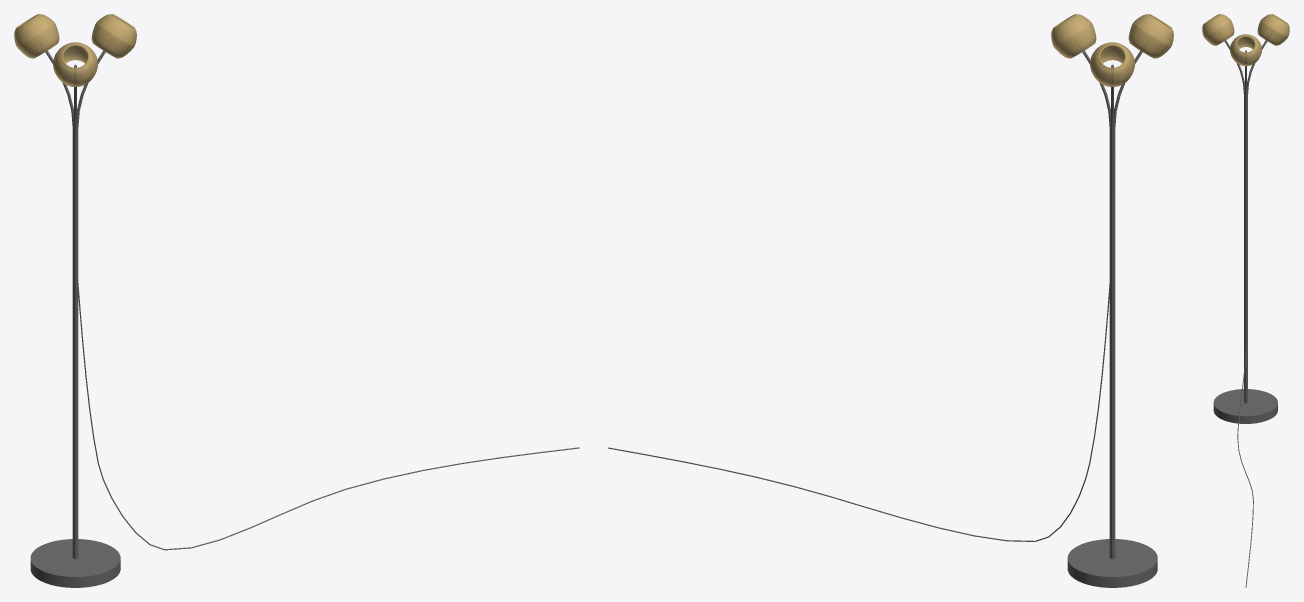
3 renders of one model, left to right at view 1: azimuth 30°, elevation 25°; view 2: azimuth 150°, elevation 25°; view 3: azimuth 270°, elevation 25°, orthographic. The views are drawn at different scales.
Parts seen in each view (by area): view 1: Obj_000001, Obj_000002; view 2: Obj_000001, Obj_000002; view 3: Obj_000001, Obj_000002.
Boxes of the visible parts, x1,y1,x2,y2 form: Obj_000001: (30, 50, 579, 587); Obj_000002: (14, 14, 136, 86); Obj_000001: (608, 50, 1157, 587); Obj_000002: (1051, 14, 1173, 86); Obj_000001: (1213, 40, 1277, 587); Obj_000002: (1202, 14, 1289, 66).
Size of the model in its own units: 2086 by 2009 by 408.
